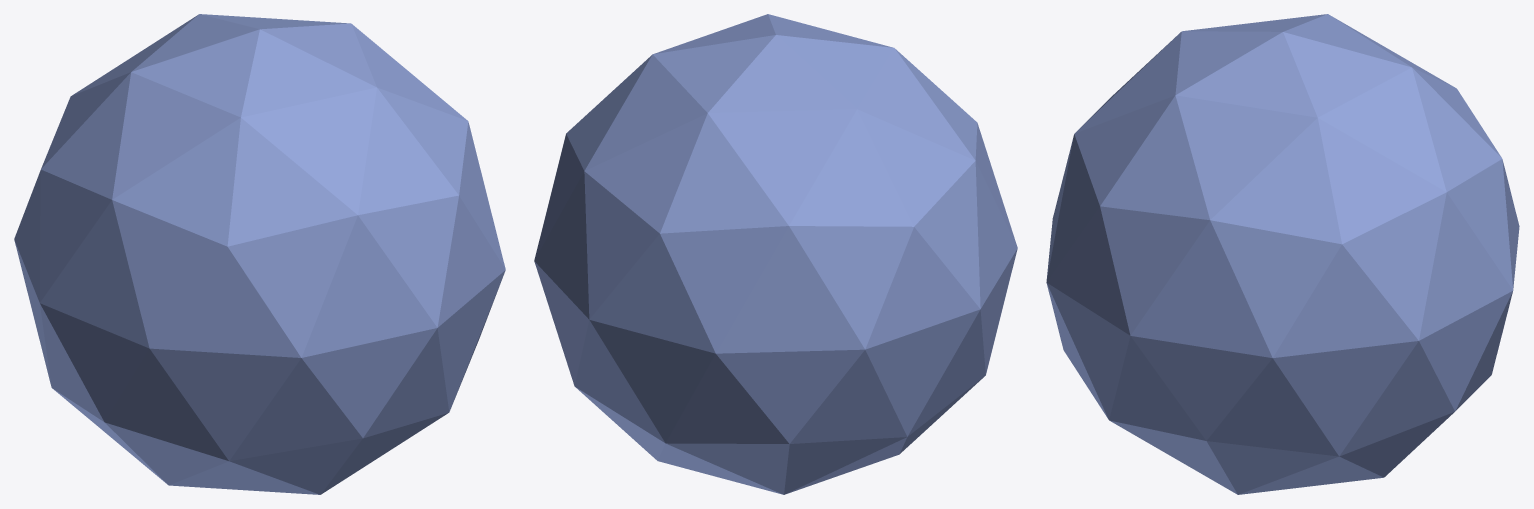
Rendered from ball.gltf.
The picture shows the model from 3 angles, left to right: view 1: azimuth 30°, elevation 25°; view 2: azimuth 150°, elevation 25°; view 3: azimuth 270°, elevation 25°; orthographic projection. The views are drawn at different scales.
Parts seen in each view (by area): view 1: Object_2; view 2: Object_2; view 3: Object_2.
Part boxes in pixels (x1,y1,x2,y2): Object_2: (14, 14, 505, 494); Object_2: (534, 14, 1017, 494); Object_2: (1046, 14, 1519, 494).
Size of the model in its own units: 8.41 by 8.42 by 8.11.
